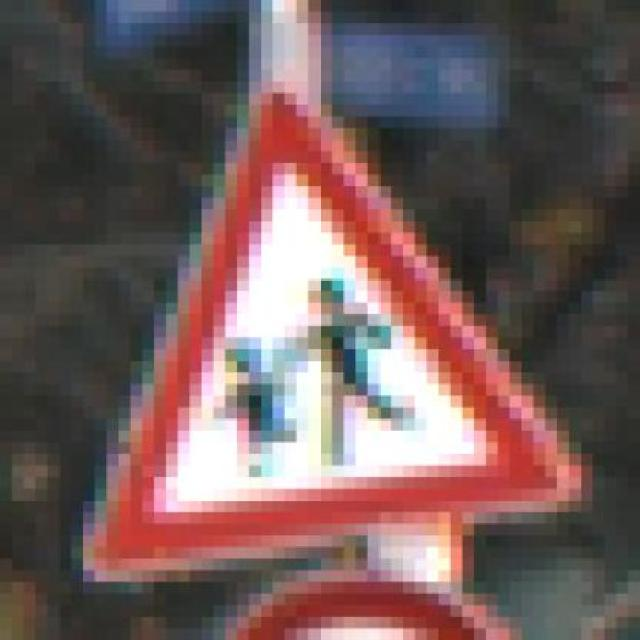Beware of children: (59, 81, 593, 582)
